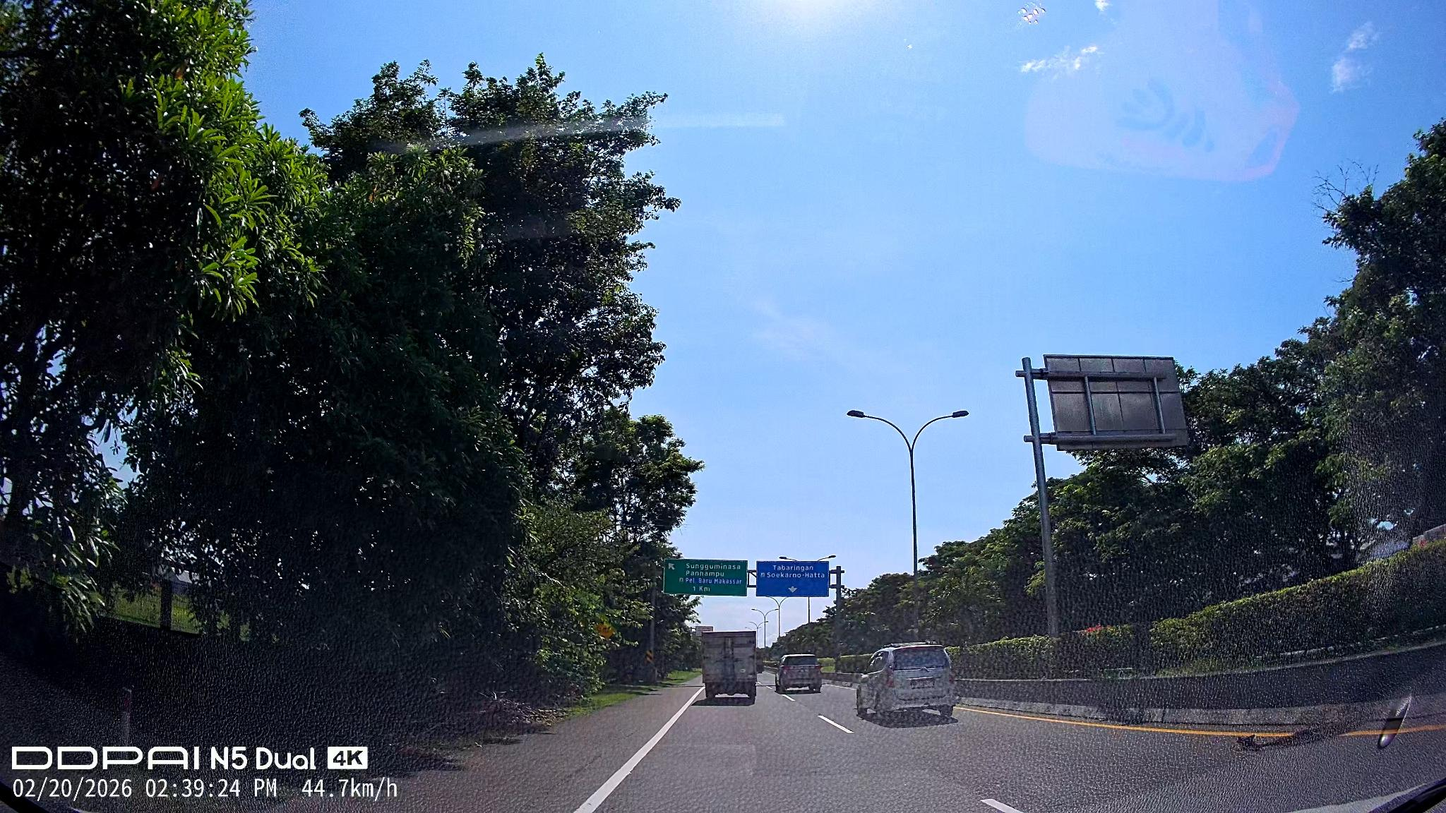rambu_teks: (663, 558, 748, 597), (755, 560, 830, 597)
